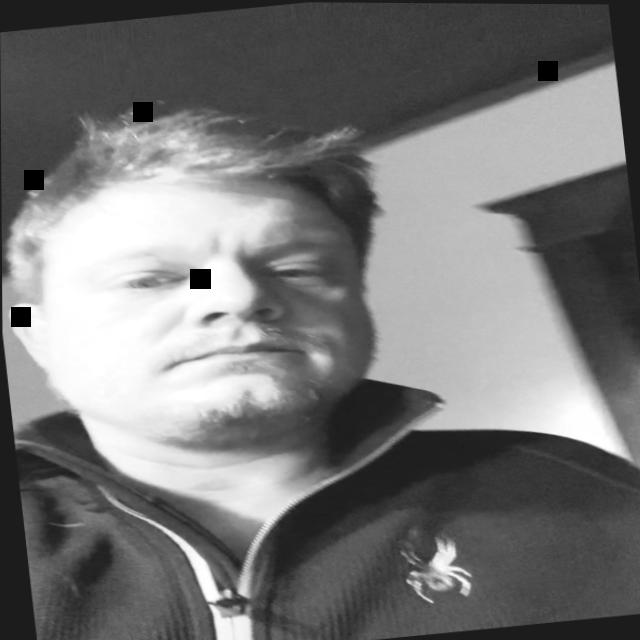NO-Mask: (2, 157, 407, 484)
